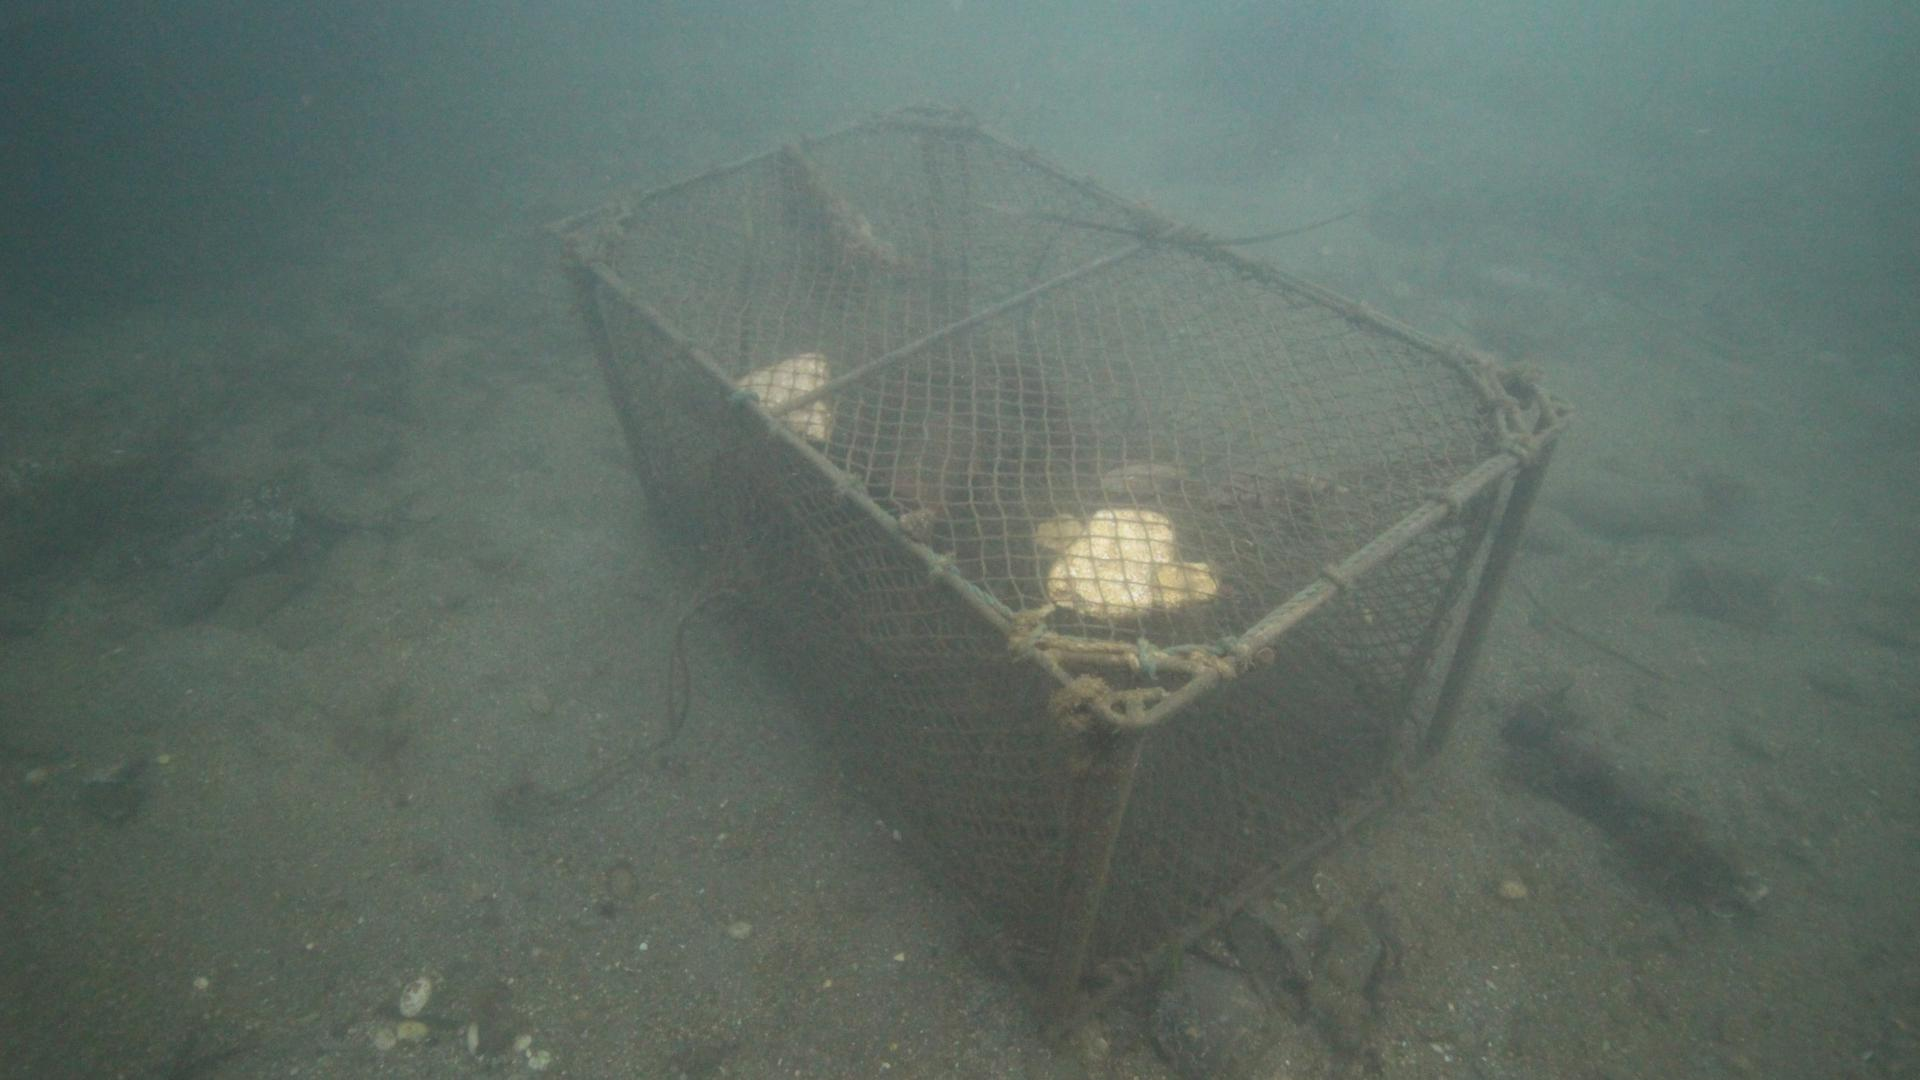rectangular fish trap: (541, 95, 1578, 1047)
